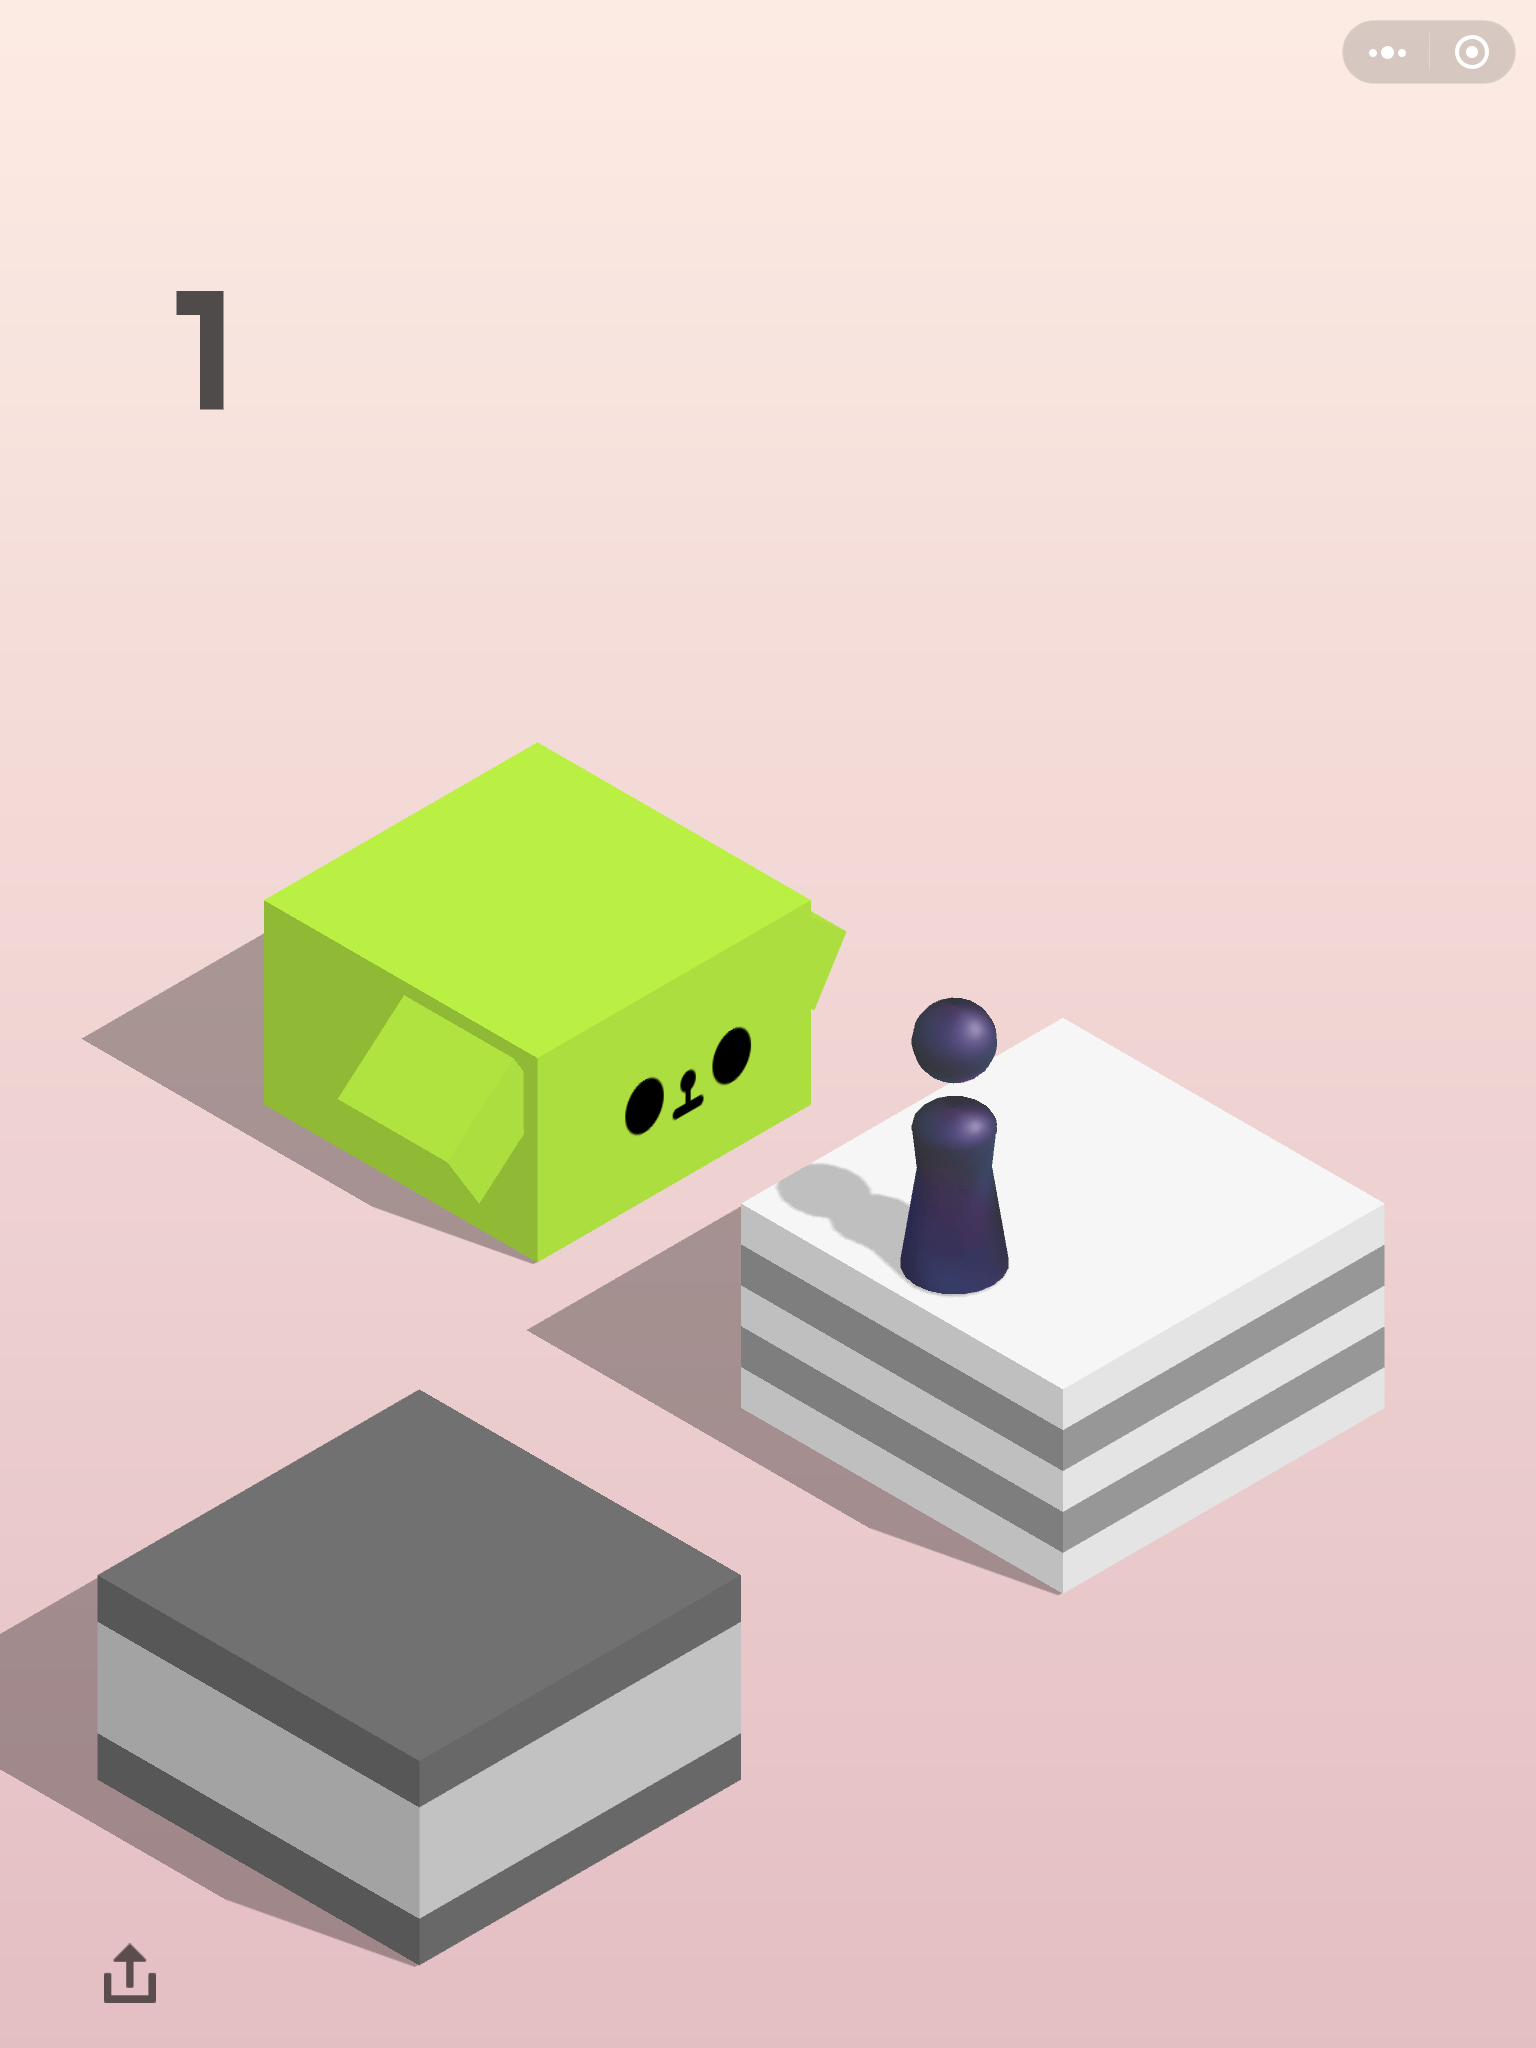f: (734, 989, 1405, 1613), (90, 1366, 763, 1972), (252, 735, 857, 1271)
r: (865, 976, 1041, 1313)
